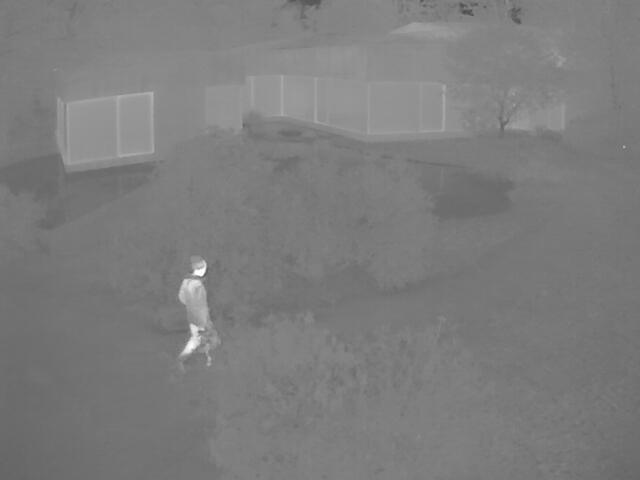person: (175, 256, 219, 371)
